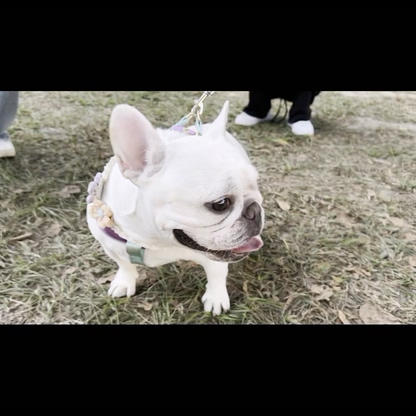bulldog: (81, 95, 266, 318)
